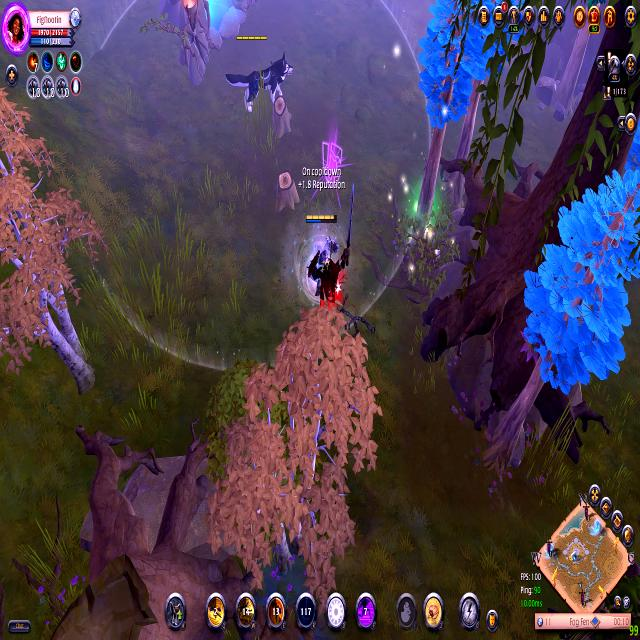ore: (314, 185, 361, 310)
red: (298, 208, 338, 294)
wisp caged: (202, 296, 393, 602), (477, 157, 640, 486), (0, 84, 111, 414), (398, 0, 494, 284), (444, 0, 528, 217), (555, 0, 604, 117)
